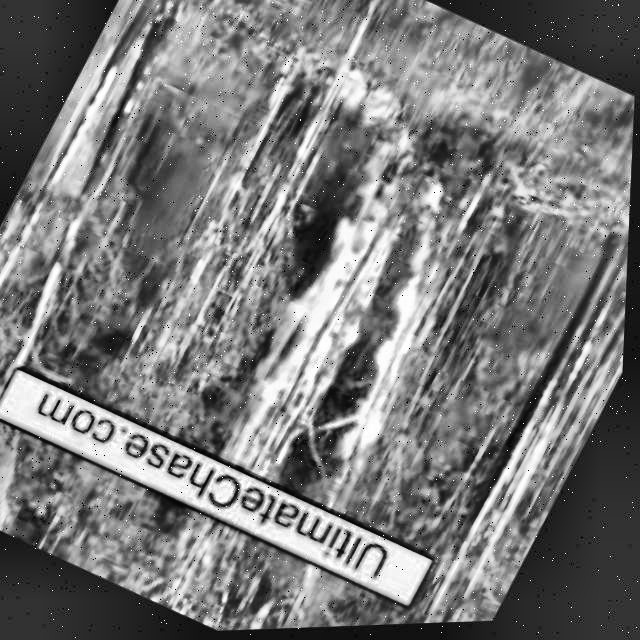Fire: (196, 139, 504, 519), (427, 332, 610, 599), (296, 49, 437, 161), (156, 510, 260, 616)
